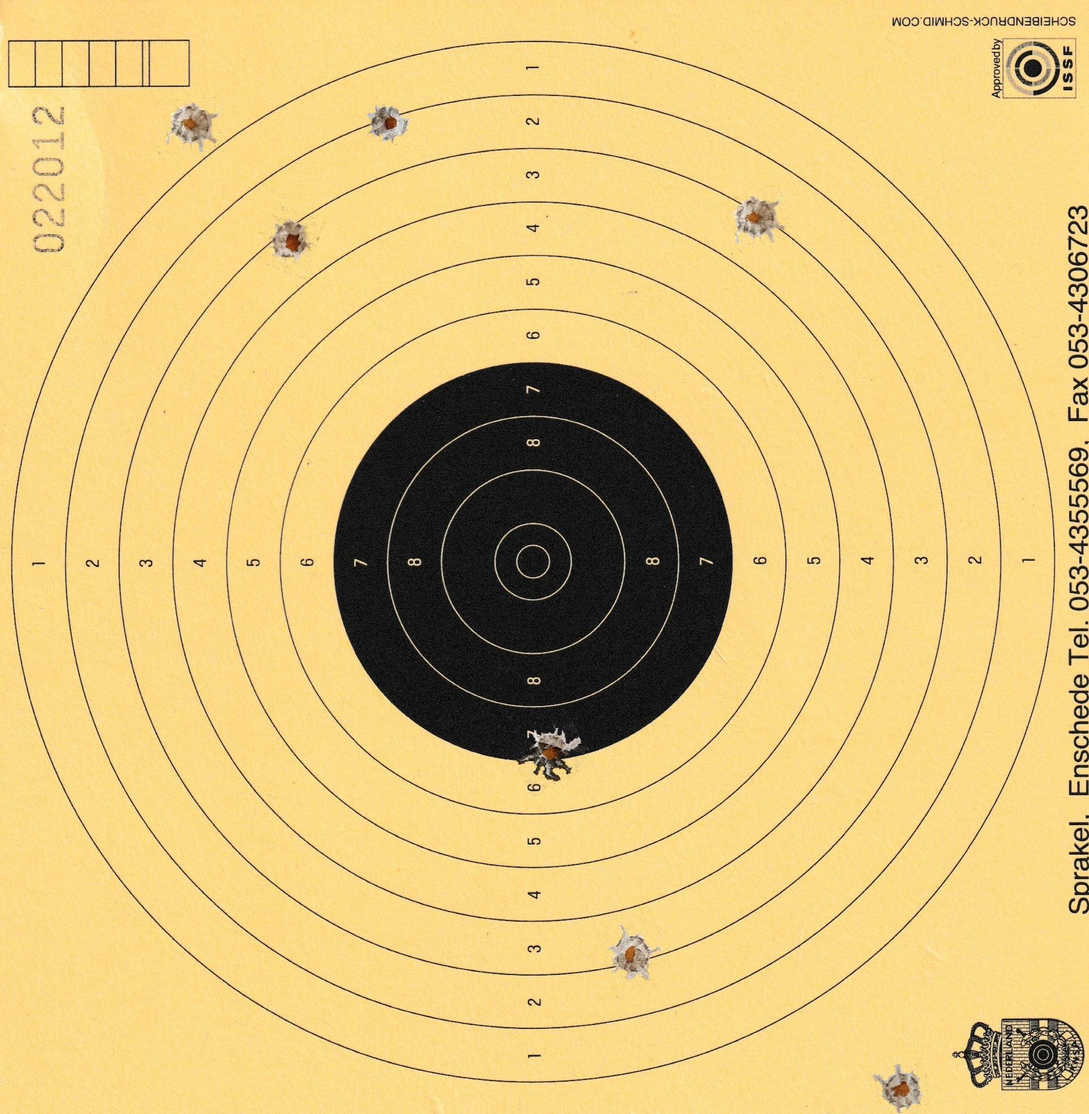hole: (516, 727, 585, 784), (726, 193, 787, 249), (604, 924, 662, 982), (163, 98, 221, 153), (866, 1063, 930, 1111), (267, 215, 317, 266), (364, 101, 412, 144)
